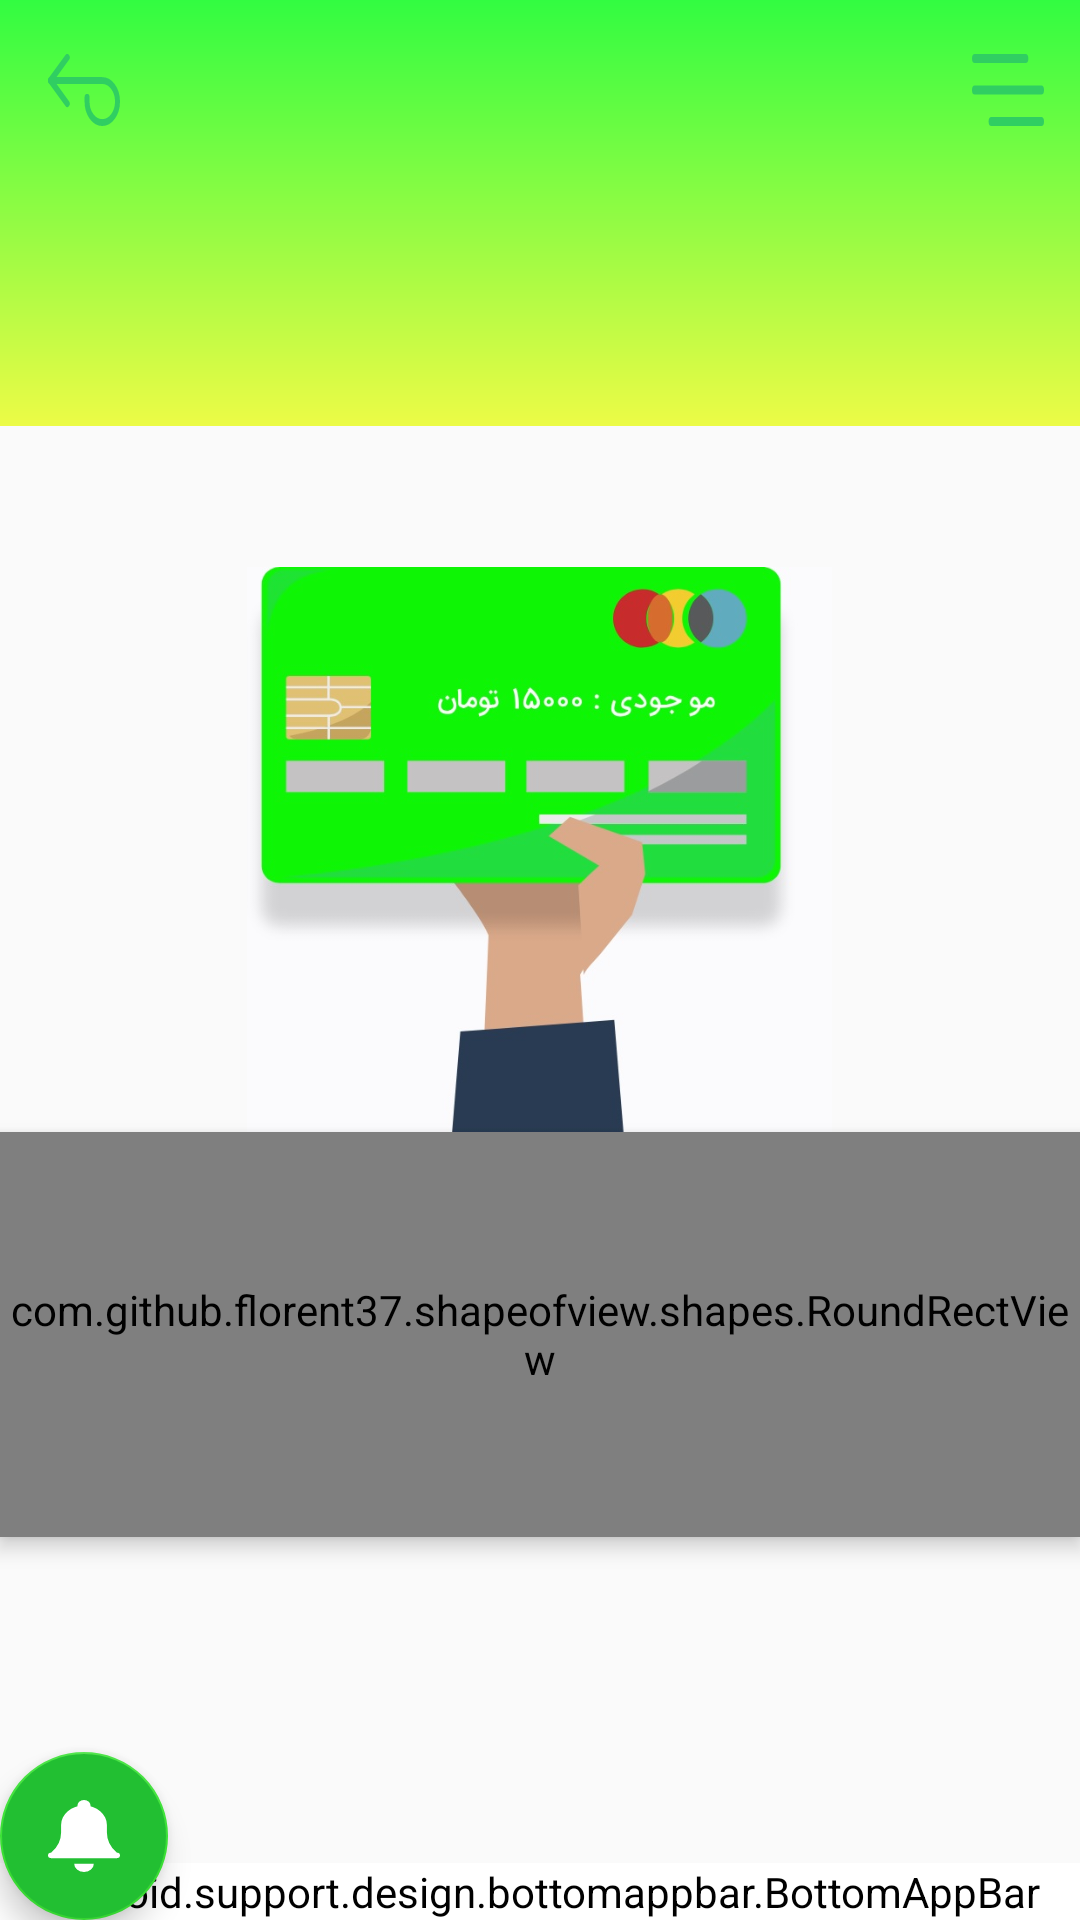

Locate icon controls on the screen. Image size 1080px×1920px, boxes as (x1,y1,x2,y2).
bell: (0,1752,168,1920)
menu: (972,54,1044,126)
